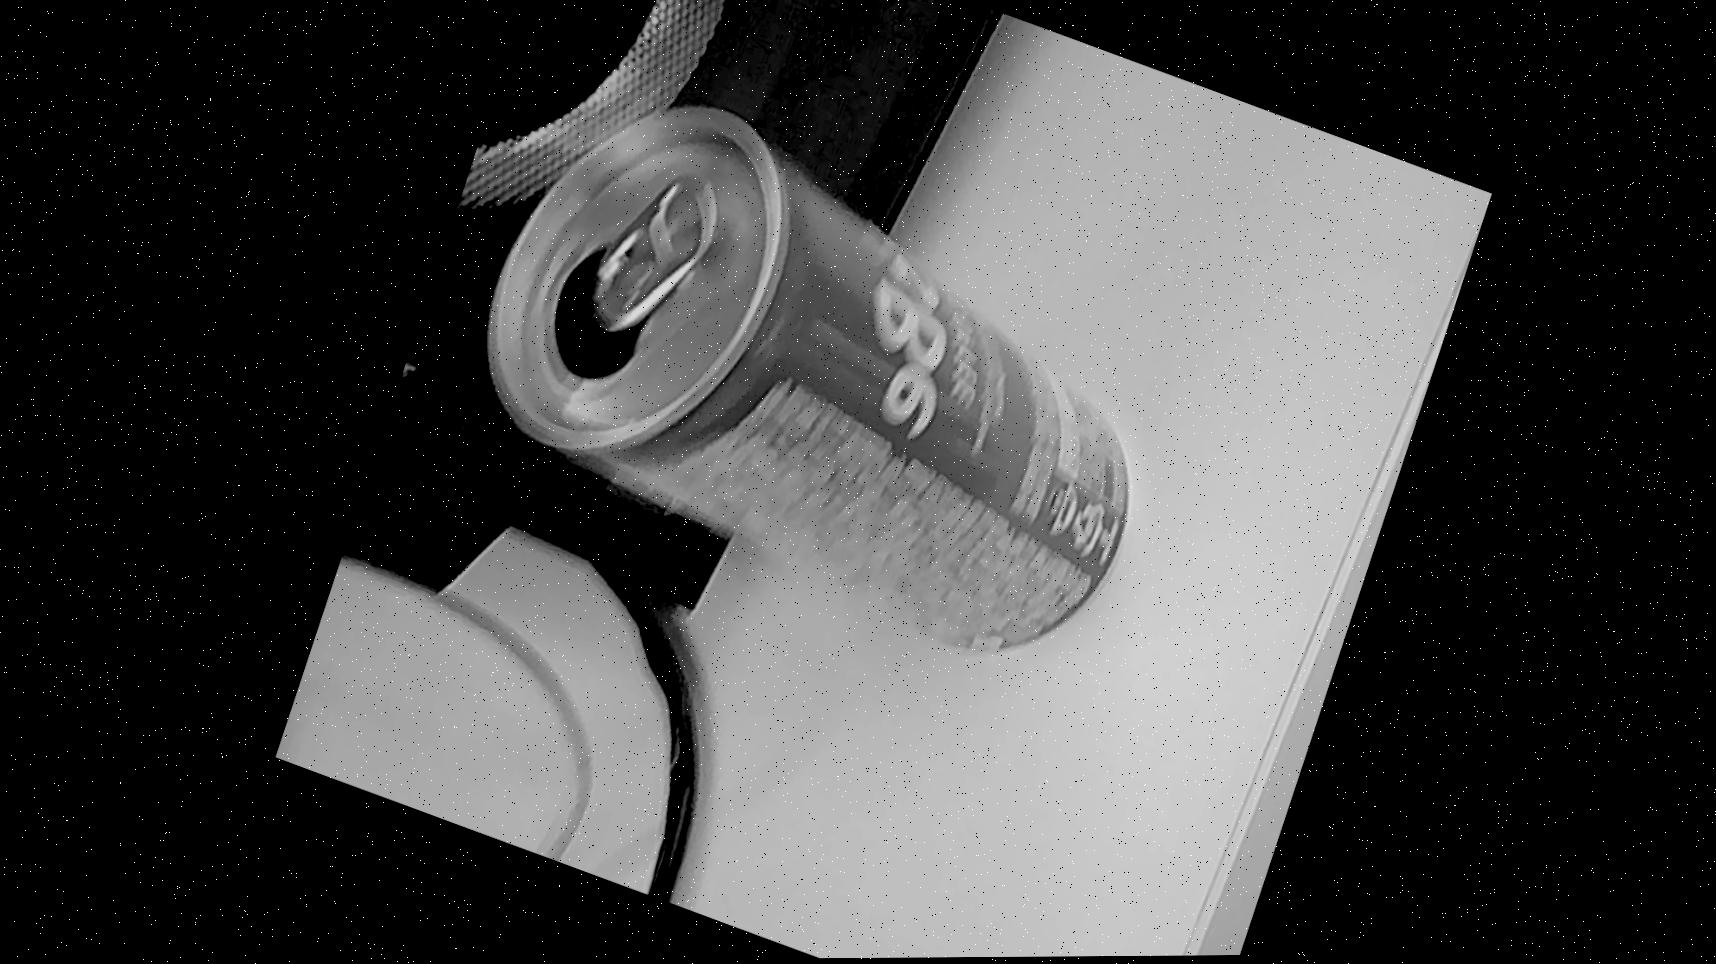letsbe: (414, 51, 1217, 698)
